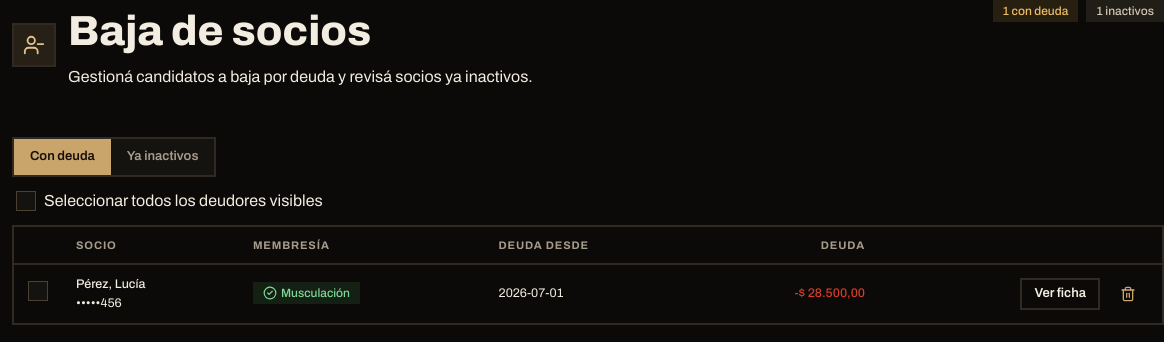
Test: InactiveMembersPage › la tab "Ya inactivos" muestra socios inactivos reales
This screenshot has width=1164, height=342.
Expected: the link "Pérez, Lucía" is shown, x1=76 y1=277 x2=145 y2=291
Click the tab "Ya inactivos".
click(163, 157)  # box x1=111 y1=139 x2=214 y2=174
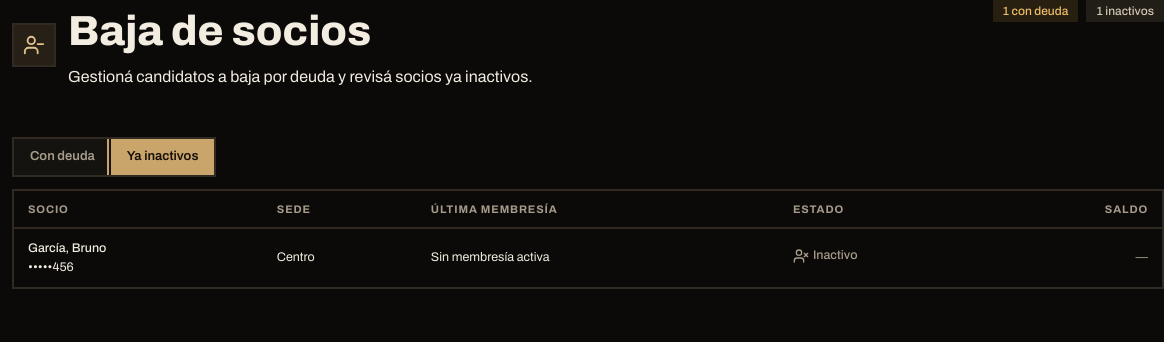
Expected: the link "García, Bruno" is shown, x1=28 y1=241 x2=106 y2=255
Expected: the text "Inactivo" is shown, x1=793 y1=246 x2=858 y2=265
